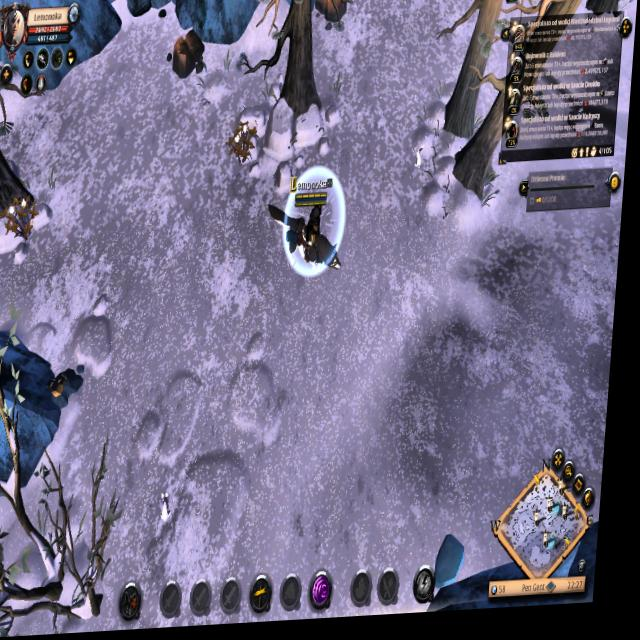fiber tier 2: (6, 189, 43, 245), (228, 120, 259, 169)
rock tier 2: (167, 27, 211, 89)
